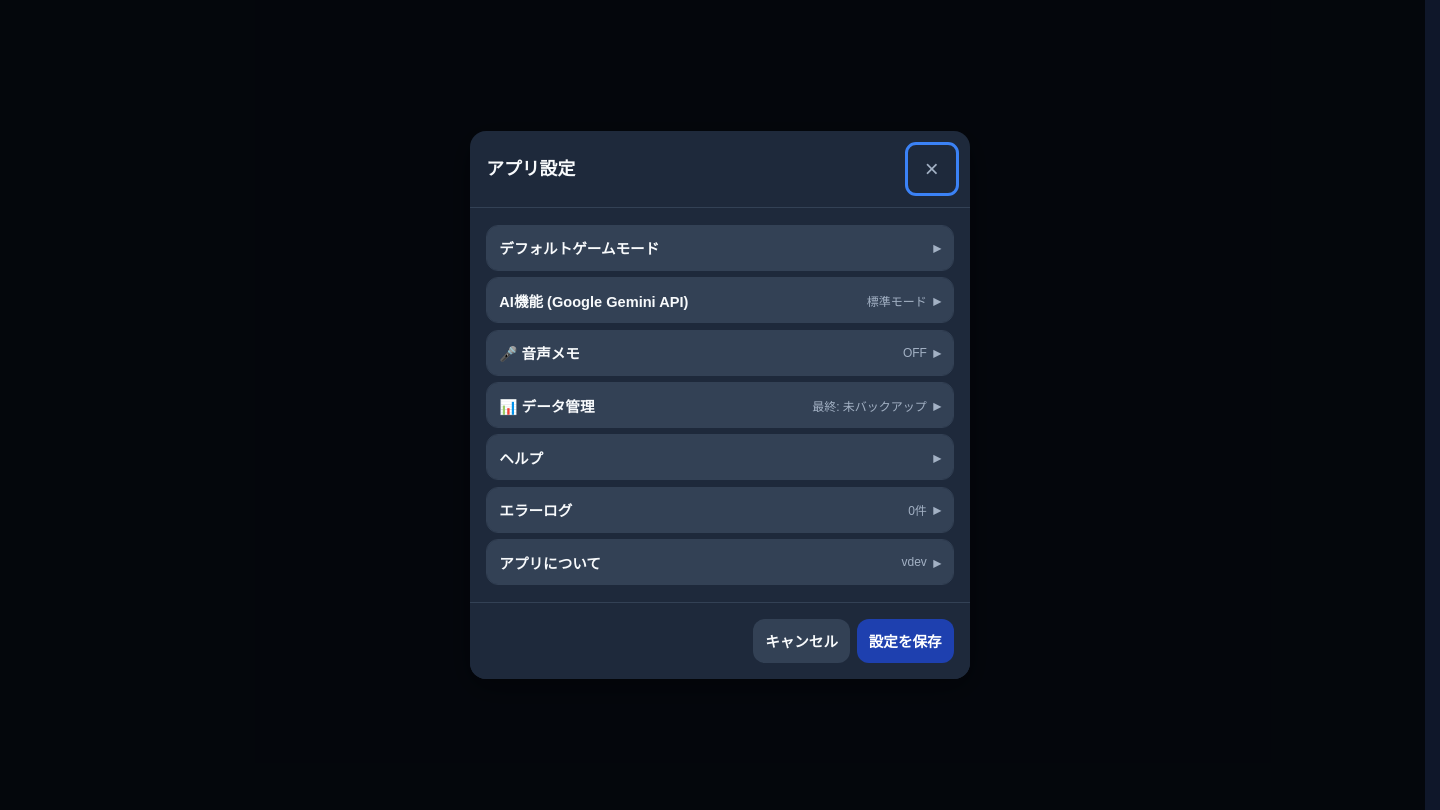
Test case: 設定: 音声メモ › 初回ONで外部送信の確認が出る（この時点ではまだ有効化しない）
This screenshot has width=1440, height=810.
Click the button "🎤 音声メモ OFF ▸". click: coordinates (540, 354)
box: x1=487 y1=330 x2=953 y2=374
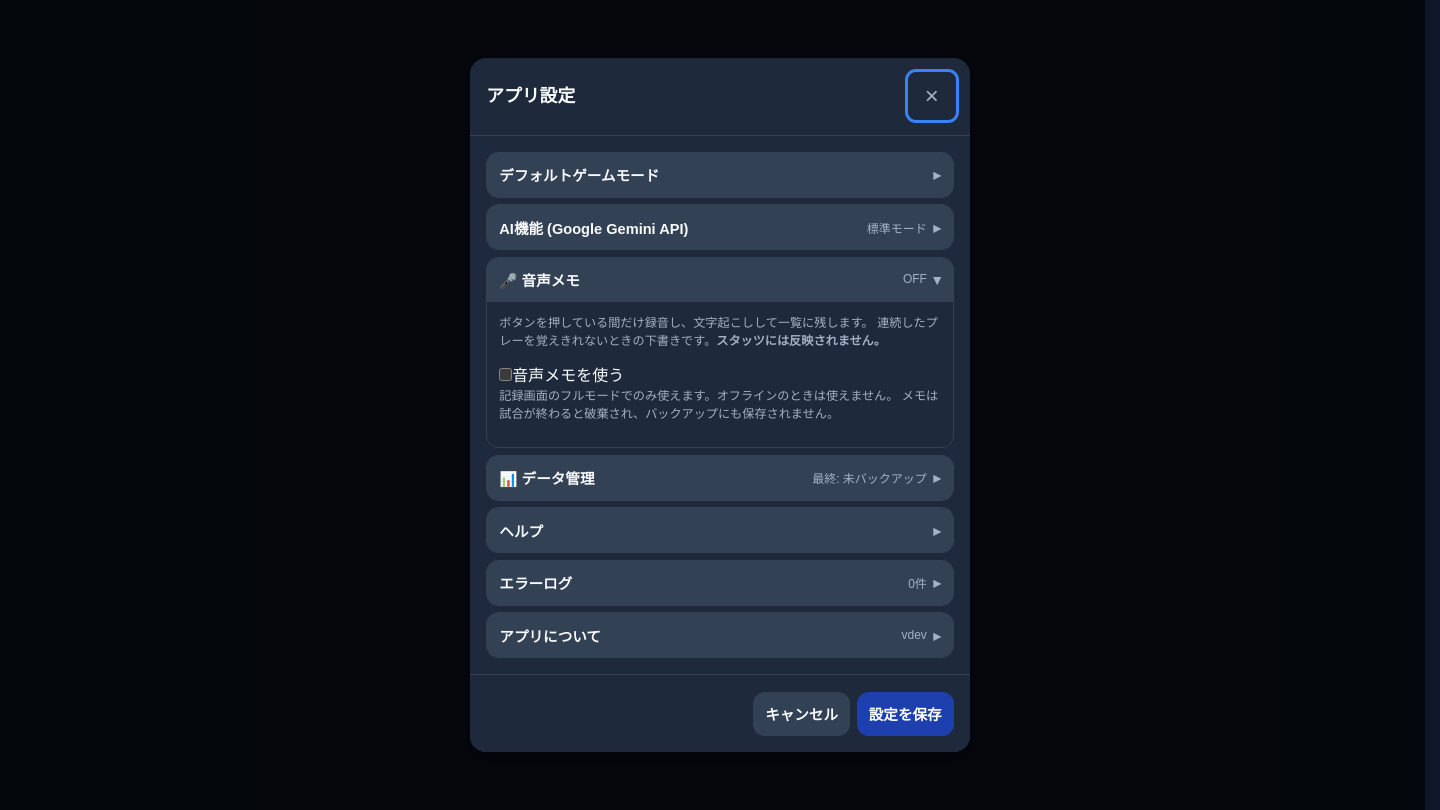
Click the checkbox labelled "音声メモを使う". click: coordinates (506, 374)
box: x1=499 y1=368 x2=512 y2=380
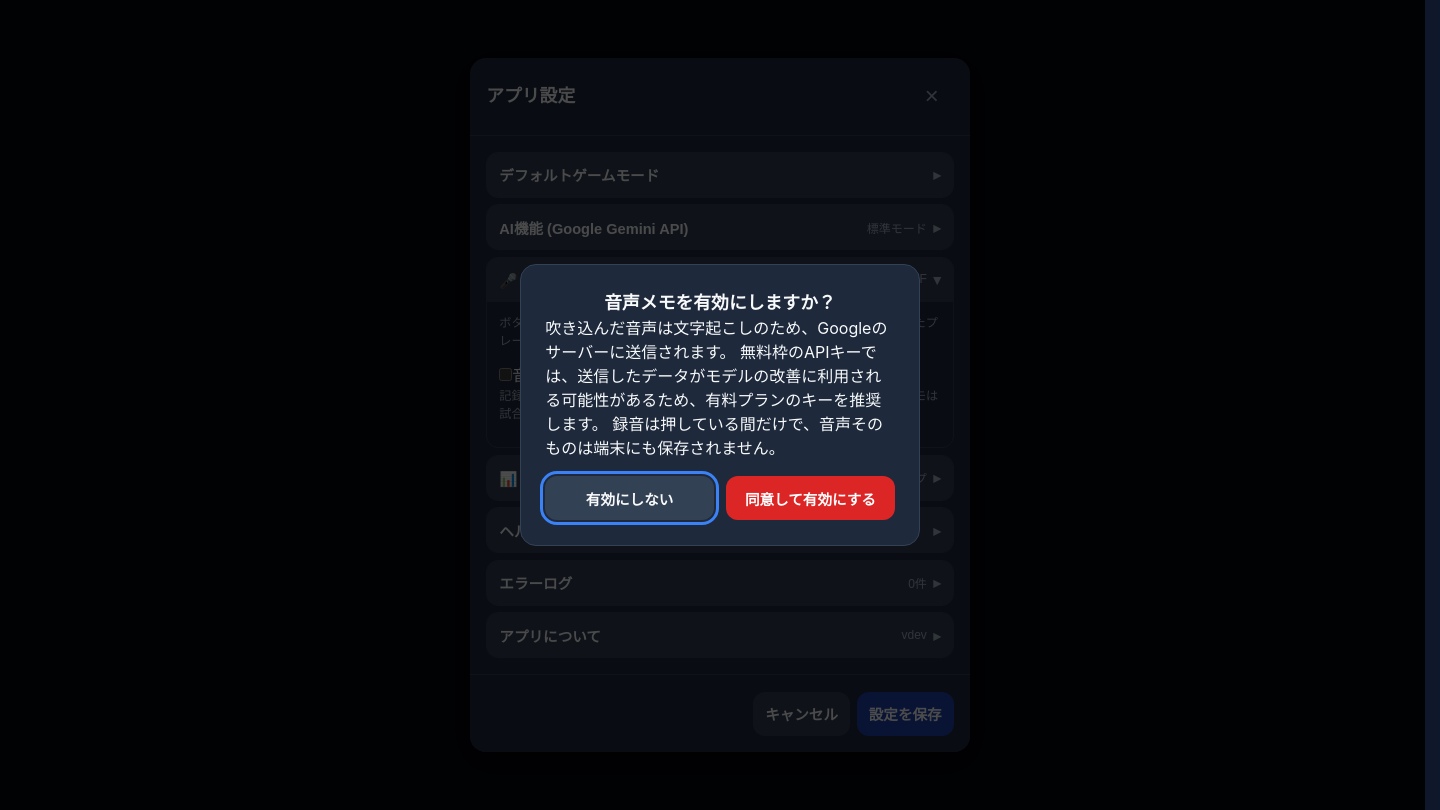
Now the text "Googleのサーバーに送信されます" is shown, box x1=545 y1=318 x2=888 y2=458
